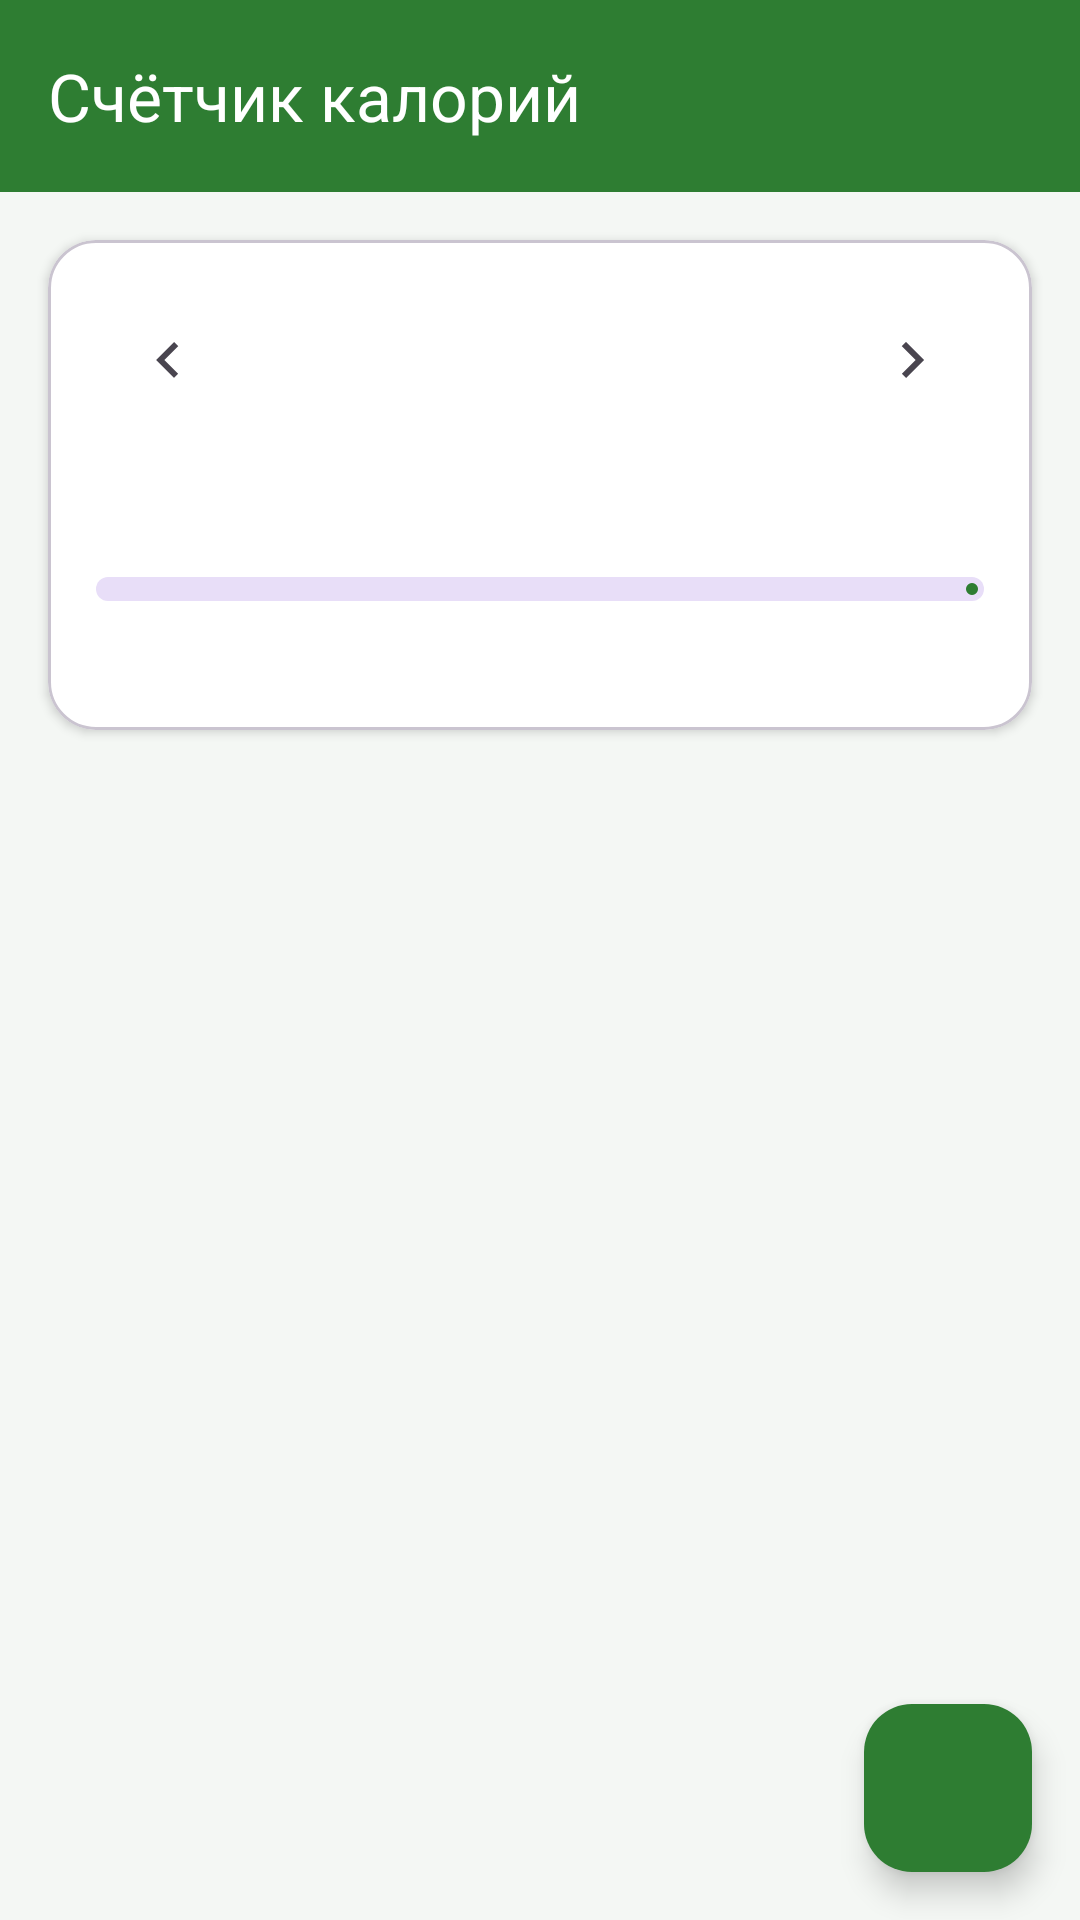

Locate icon controls on the screen. Image size 1080px×1920px, boxes as Rect(x1, y1, x2, y2).
next: Rect(902, 342, 924, 378)
prev: Rect(156, 342, 178, 378)
